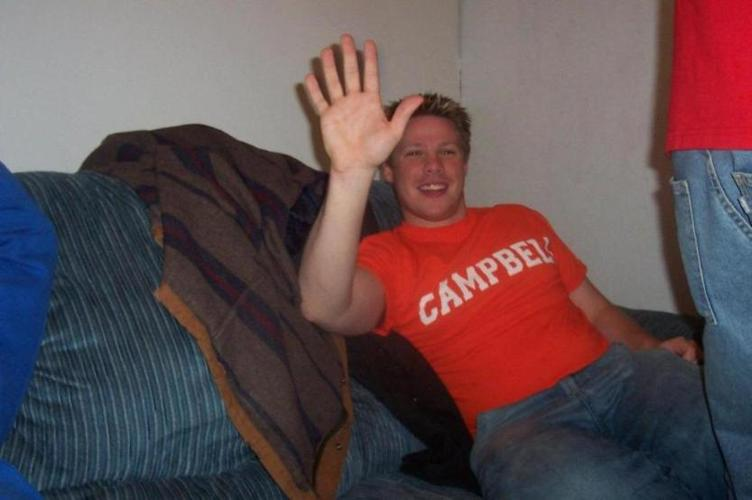person: (298, 32, 737, 500)
